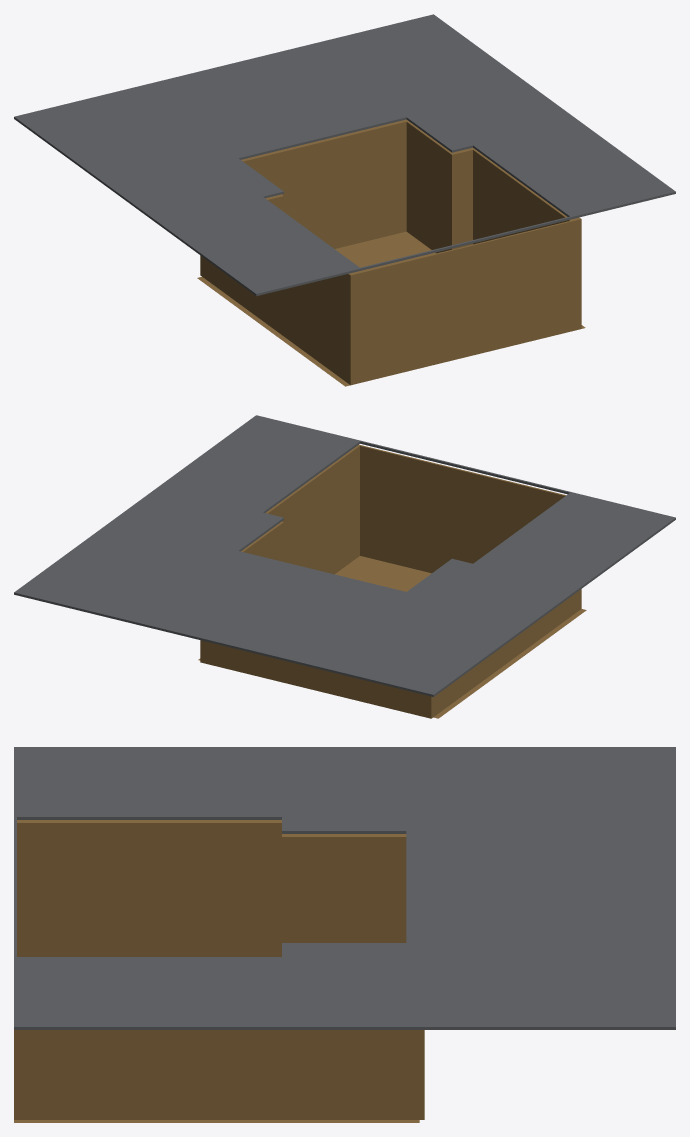
The model's file is 2mx2m-road-tile-w-hole-w-user-cavity.glb.
3 renders of one model, top to bottom at view 1: azimuth 30°, elevation 25°; view 2: azimuth 150°, elevation 25°; view 3: azimuth 270°, elevation 25°, orthographic. The views are drawn at different scales.
Parts seen in each view (by area): view 1: Mesh_Mesh_head_geo.001_lambert2SG.001; view 2: Mesh_Mesh_head_geo.001_lambert2SG.001; view 3: Mesh_Mesh_head_geo.001_lambert2SG.001.
Boxes of the visible parts, bbox=[...] form: Mesh_Mesh_head_geo.001_lambert2SG.001: bbox=[14, 14, 675, 386]; Mesh_Mesh_head_geo.001_lambert2SG.001: bbox=[14, 415, 675, 718]; Mesh_Mesh_head_geo.001_lambert2SG.001: bbox=[14, 747, 675, 1122].
Size of the model in its own units: 2 by 0.52 by 2.
